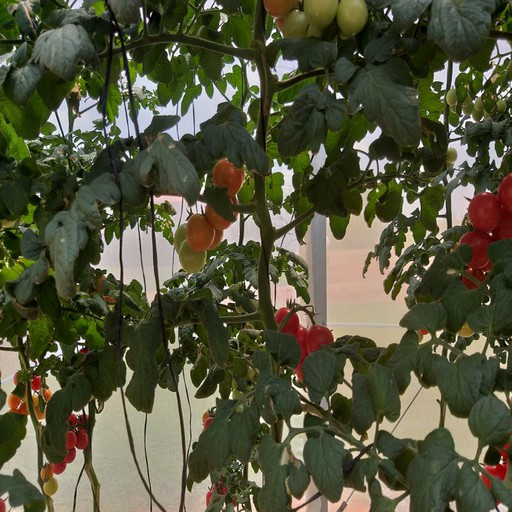green tomato bunch: (276, 1, 367, 46), (476, 430, 512, 494)
mixed tomato bunch: (171, 158, 244, 272), (8, 369, 54, 419)
red tomato bunch: (455, 171, 512, 302), (274, 308, 335, 381), (201, 413, 245, 512), (48, 414, 94, 474)
